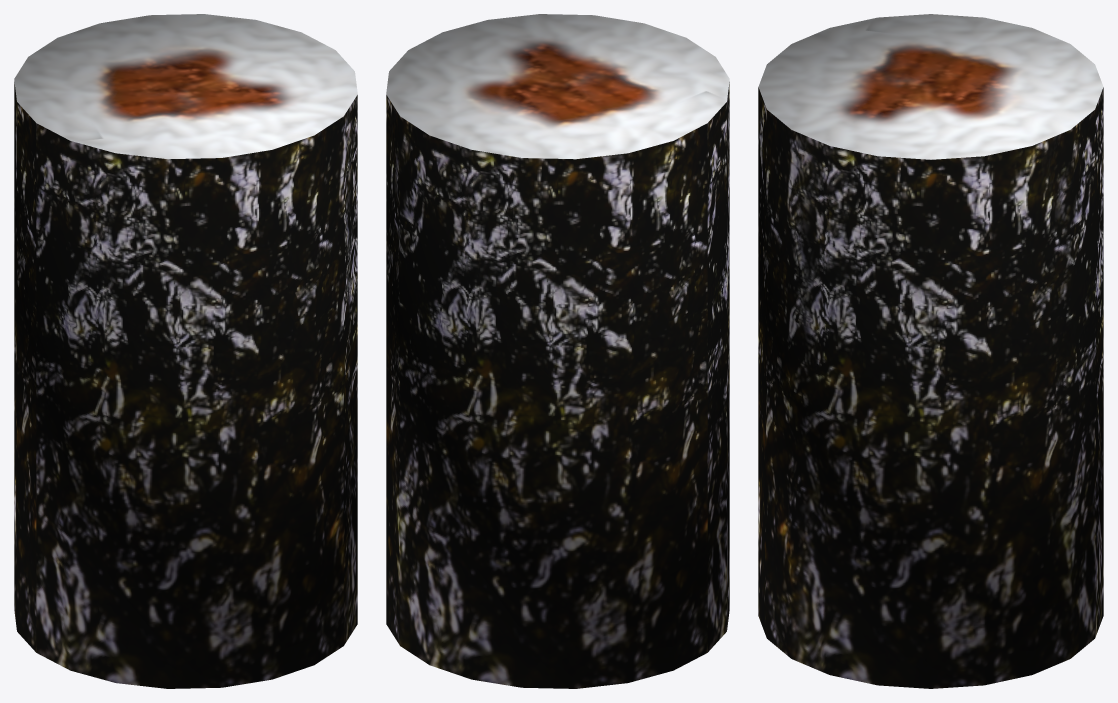
Rendered from kanpyo.fbx.
3 renders of one model, left to right at view 1: azimuth 30°, elevation 25°; view 2: azimuth 150°, elevation 25°; view 3: azimuth 270°, elevation 25°, orthographic.
Visible parts, largest first — view 1: kanpyo; view 2: kanpyo; view 3: kanpyo.
Boxes of the visible parts, x1,y1,x2,y2 form: kanpyo: (14, 14, 357, 688); kanpyo: (386, 14, 729, 688); kanpyo: (758, 14, 1103, 688).
Bounding box in the file's own units: 3 × 5.08 × 3.
